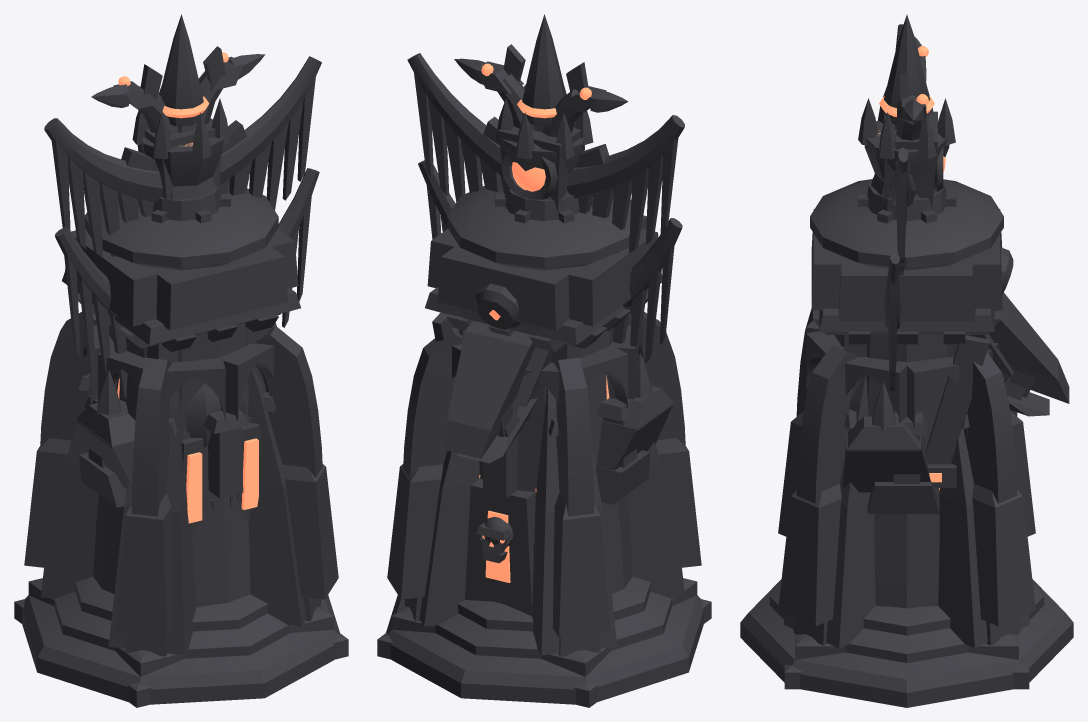
The model's file is imperium.glb.
3 views of the same model, side by side, from view 1: azimuth 30°, elevation 25°; view 2: azimuth 150°, elevation 25°; view 3: azimuth 270°, elevation 25° (orthographic).
Visible parts, largest first — view 1: king, rook, queen, knight, pawn, bishop; view 2: king, rook, knight, queen, pawn, bishop; view 3: king, rook, knight, queen, pawn, bishop.
Boxes of the visible parts, box(x1,y1,x2,y2) form: king: box(22, 14, 339, 704); rook: box(14, 215, 348, 707); queen: box(55, 85, 319, 513); knight: box(75, 369, 260, 533); pawn: box(79, 383, 246, 507); bishop: box(41, 568, 321, 656); king: box(386, 14, 703, 704); rook: box(377, 215, 711, 707); knight: box(445, 283, 674, 470); queen: box(418, 84, 682, 362); pawn: box(432, 312, 650, 615); bishop: box(404, 568, 684, 656); king: box(740, 15, 1073, 707); rook: box(783, 209, 1030, 689); knight: box(842, 247, 1069, 492); queen: box(857, 86, 956, 513); pawn: box(867, 335, 989, 513); bishop: box(793, 618, 1020, 645).
Size of the model in its own units: 0.727 by 1.5 by 0.727.
